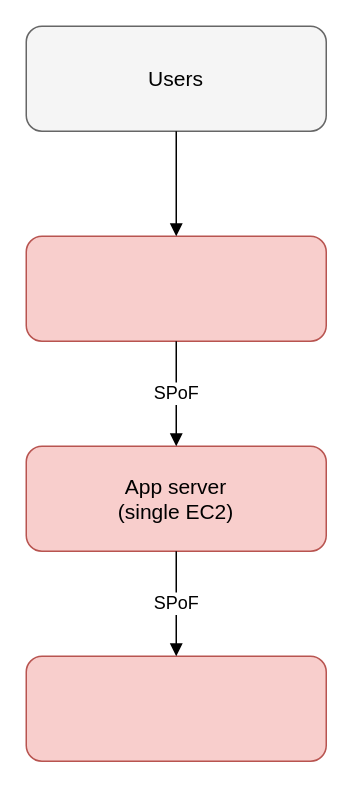
Some shapes in this 353 by 788 pixel diagram are drawn without their labels. Here are the shapes that lost their labels. From the top down, the box of each, then its label:
(25, 235, 326, 341): Load Balancer (single-AZ)
(25, 655, 326, 761): Database (single instance)
